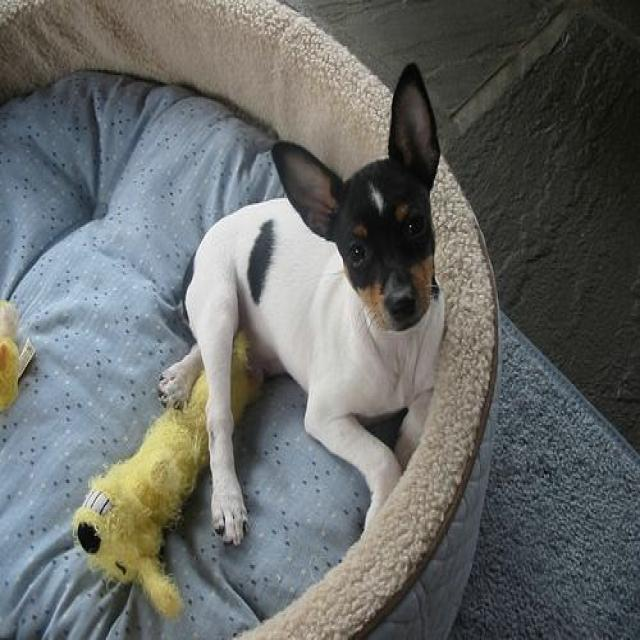toy_terrier: (158, 63, 444, 551)
